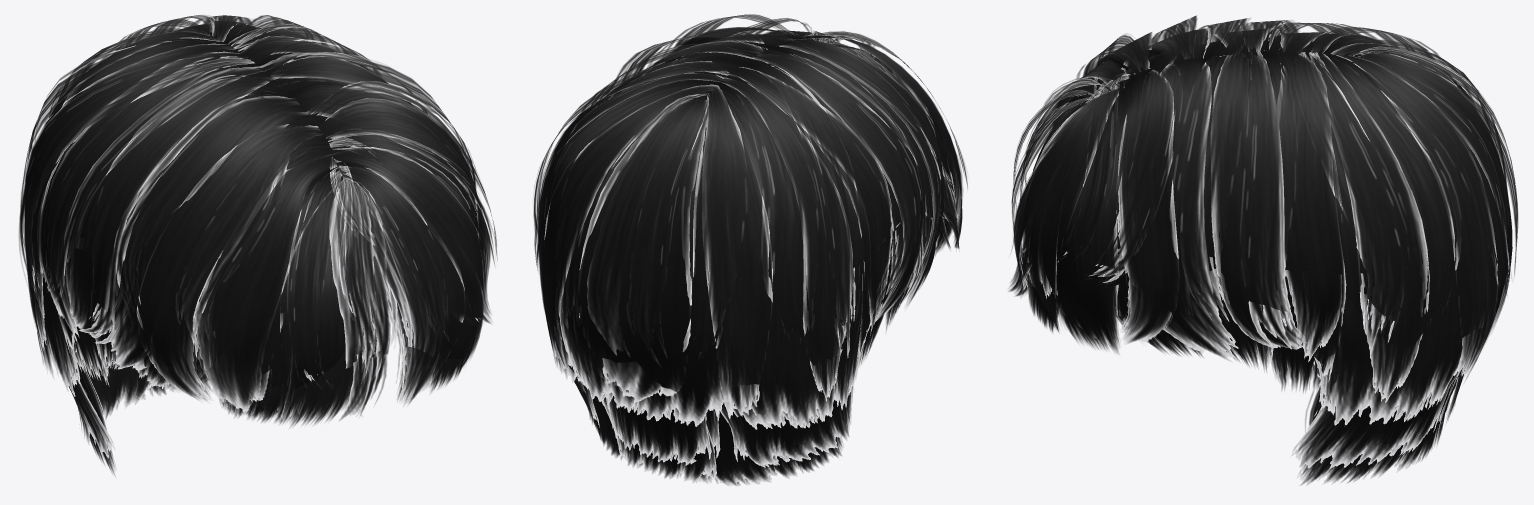
Rendered from hair17.glb.
3 renders of one model, left to right at view 1: azimuth 30°, elevation 25°; view 2: azimuth 150°, elevation 25°; view 3: azimuth 270°, elevation 25°, orthographic. The views are drawn at different scales.
Parts seen in each view (by area): view 1: s4studio_mesh_1, s4studio_mesh_3, s4studio_mesh_2; view 2: s4studio_mesh_1, s4studio_mesh_2, s4studio_mesh_3; view 3: s4studio_mesh_1, s4studio_mesh_3, s4studio_mesh_2.
Boxes of the visible parts, box(x1,y1,x2,y2) form: s4studio_mesh_1: box(18, 15, 497, 469); s4studio_mesh_3: box(31, 266, 466, 476); s4studio_mesh_2: box(37, 181, 478, 462); s4studio_mesh_1: box(533, 14, 967, 485); s4studio_mesh_2: box(556, 164, 959, 485); s4studio_mesh_3: box(542, 213, 950, 477); s4studio_mesh_1: box(1010, 15, 1518, 482); s4studio_mesh_3: box(1008, 242, 1481, 485); s4studio_mesh_2: box(1020, 83, 1464, 477).
Bounding box in the file's own units: 0.1719 × 0.1773 × 0.2122.
Materials: 1 (1 with a texture image).
